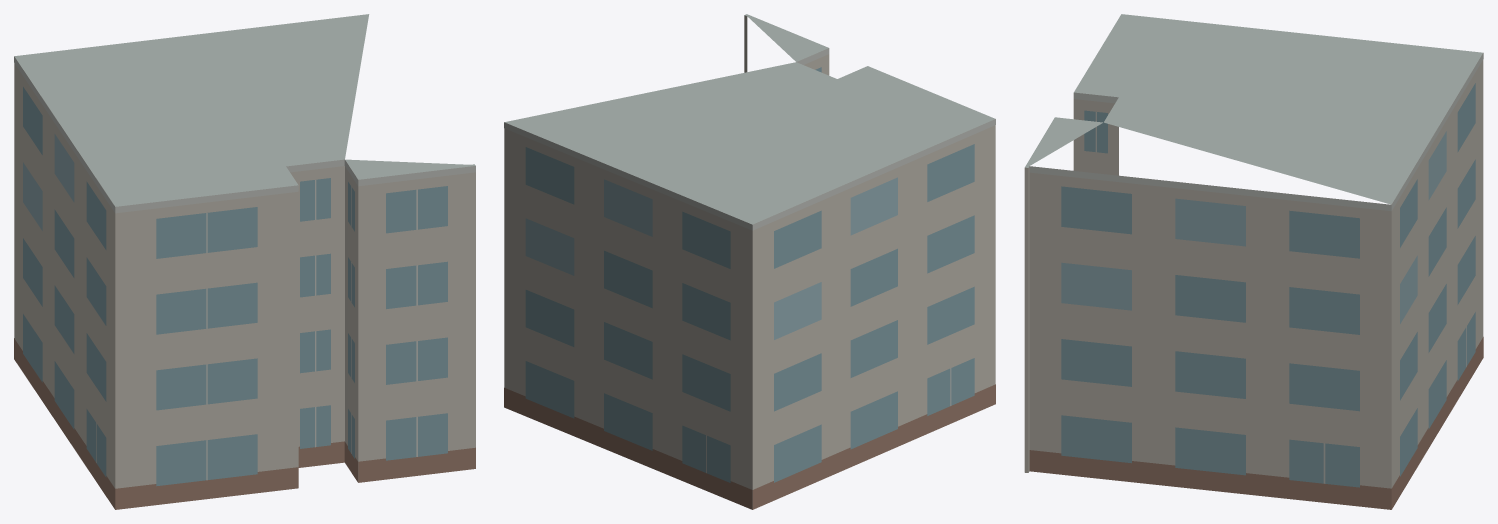
The model's file is survey-upis-32832027.glb.
3 views of the same model, side by side, from view 1: azimuth 30°, elevation 25°; view 2: azimuth 150°, elevation 25°; view 3: azimuth 270°, elevation 25° (orthographic). The views are drawn at different scales.
Parts seen in each view (by area): view 1: survey-upis-32832027.tmp; view 2: survey-upis-32832027.tmp; view 3: survey-upis-32832027.tmp.
Part boxes in pixels (x1,y1,x2,y2): survey-upis-32832027.tmp: (14, 14, 475, 509); survey-upis-32832027.tmp: (504, 14, 995, 509); survey-upis-32832027.tmp: (1024, 14, 1483, 509).
Size of the model in its own units: 15.36 by 11.45 by 15.61.
